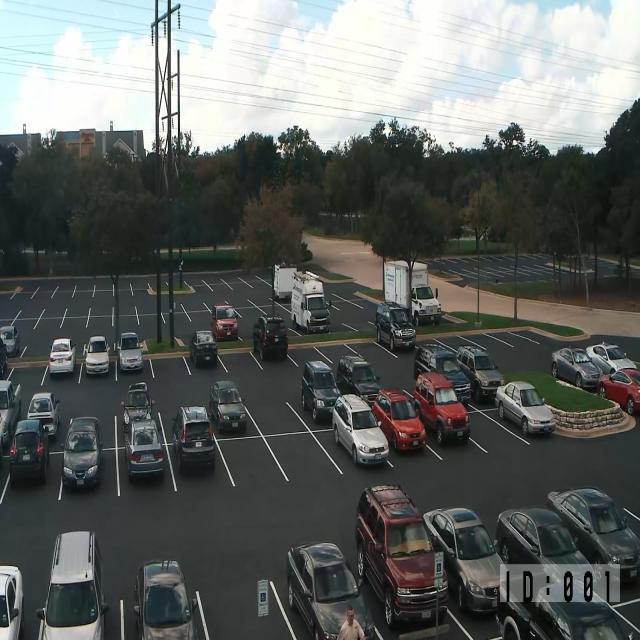car: (355, 483, 449, 629), (494, 506, 594, 603), (496, 575, 640, 639), (546, 486, 640, 582), (422, 506, 504, 616), (286, 541, 376, 639), (36, 530, 109, 639), (133, 558, 198, 640), (413, 371, 471, 446), (332, 393, 389, 466), (413, 344, 471, 409), (372, 388, 427, 452), (495, 381, 556, 436), (61, 415, 103, 489), (172, 405, 215, 473), (456, 344, 504, 402), (124, 417, 164, 481), (9, 418, 49, 482), (301, 360, 341, 422), (336, 353, 381, 408), (550, 346, 603, 390), (597, 368, 640, 415), (375, 302, 416, 351), (209, 380, 247, 432), (0, 378, 21, 464), (0, 564, 24, 639), (586, 340, 637, 374), (121, 382, 154, 433), (413, 342, 456, 381), (252, 314, 288, 360), (27, 392, 60, 439), (411, 284, 441, 326), (189, 329, 218, 367), (116, 332, 143, 372), (83, 335, 110, 375), (49, 337, 76, 375), (211, 303, 238, 341), (0, 324, 20, 357), (0, 336, 8, 379)
